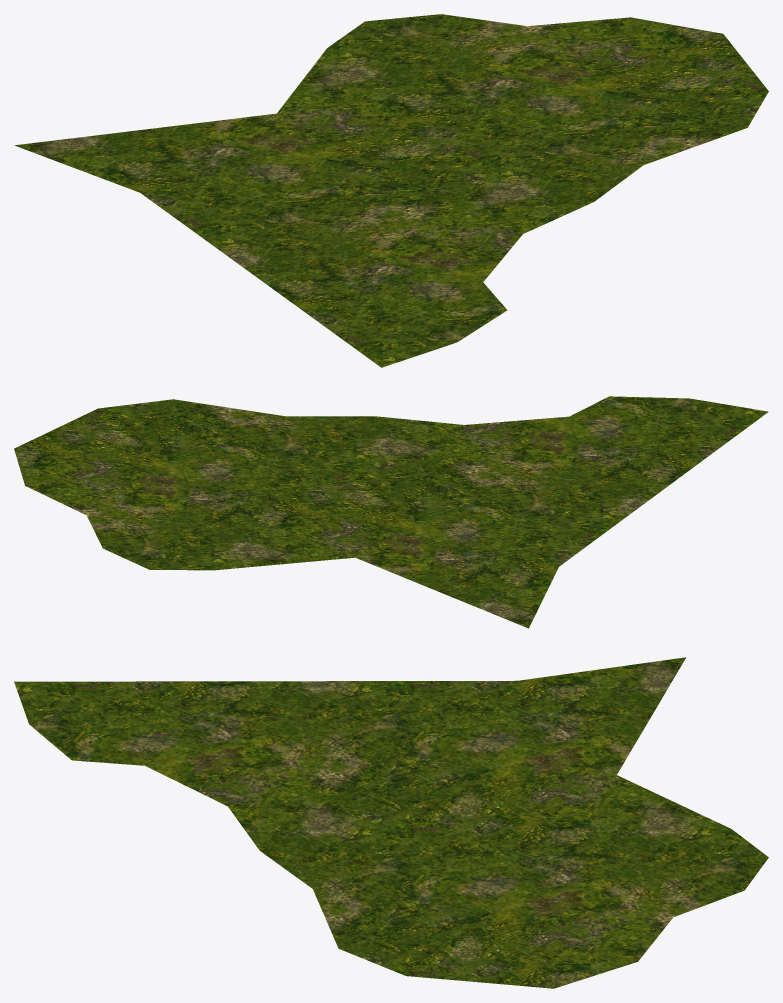
File: OVERHILL_A_01_GROUND_23.fbx
3 renders of one model, top to bottom at view 1: azimuth 30°, elevation 25°; view 2: azimuth 150°, elevation 25°; view 3: azimuth 270°, elevation 25°, orthographic. The views are drawn at different scales.
Parts seen in each view (by area): view 1: OVERHILL_A_01_GROUND_23; view 2: OVERHILL_A_01_GROUND_23; view 3: OVERHILL_A_01_GROUND_23.
Part boxes in pixels (<box>): OVERHILL_A_01_GROUND_23: <box>14,14,768,367</box>; OVERHILL_A_01_GROUND_23: <box>14,396,768,628</box>; OVERHILL_A_01_GROUND_23: <box>14,657,768,988</box>.
Size of the model in its own units: 46271 by 0.00726 by 44532.
Materials: 1 (1 with a texture image).
